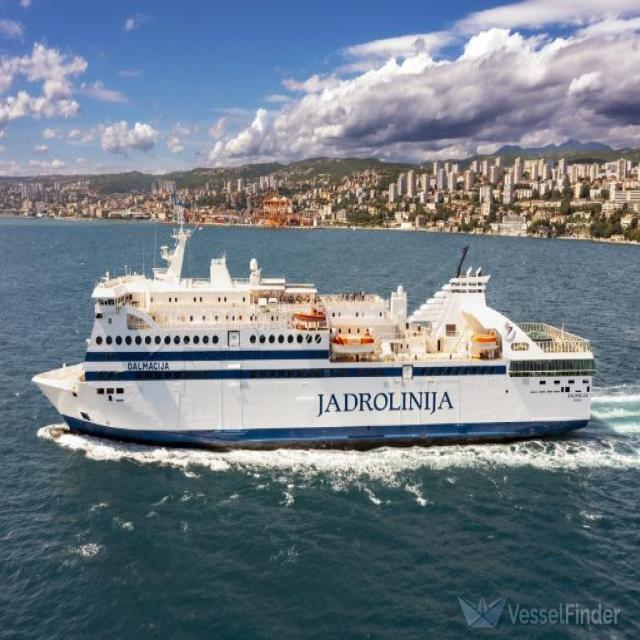PassengerShip: (26, 184, 628, 478)
